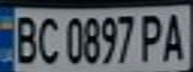0: (60, 12, 84, 65)
7: (115, 11, 139, 64)
8: (81, 12, 103, 65)
9: (100, 12, 121, 65)
A: (157, 9, 190, 63)
B: (9, 11, 42, 65)
C: (33, 12, 63, 66)
P: (136, 10, 169, 63)
